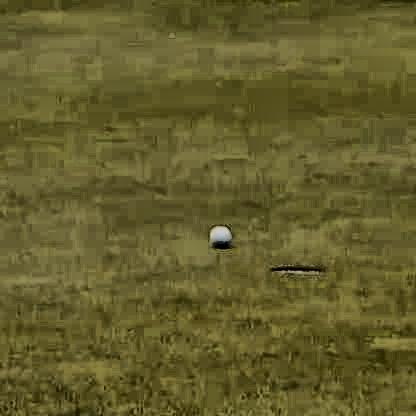golfball: (205, 222, 230, 247)
